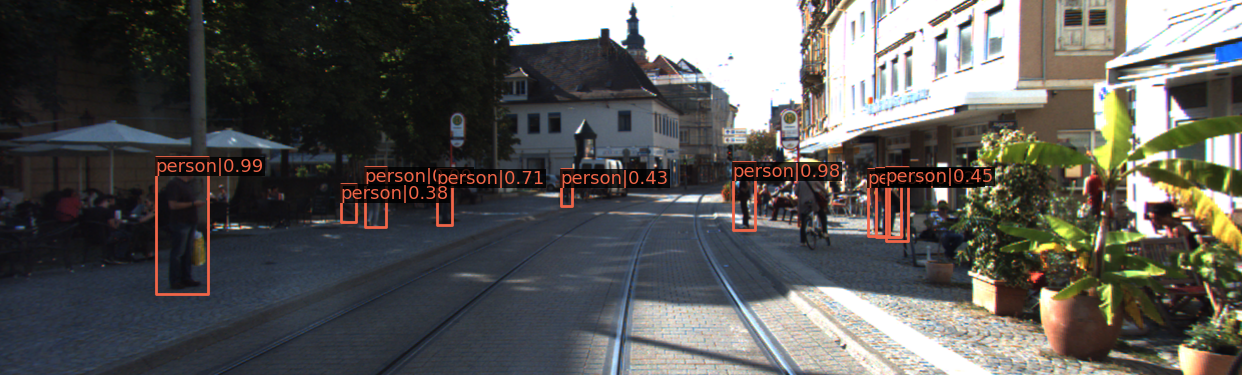person: (161, 161, 210, 291), (740, 163, 757, 230)
